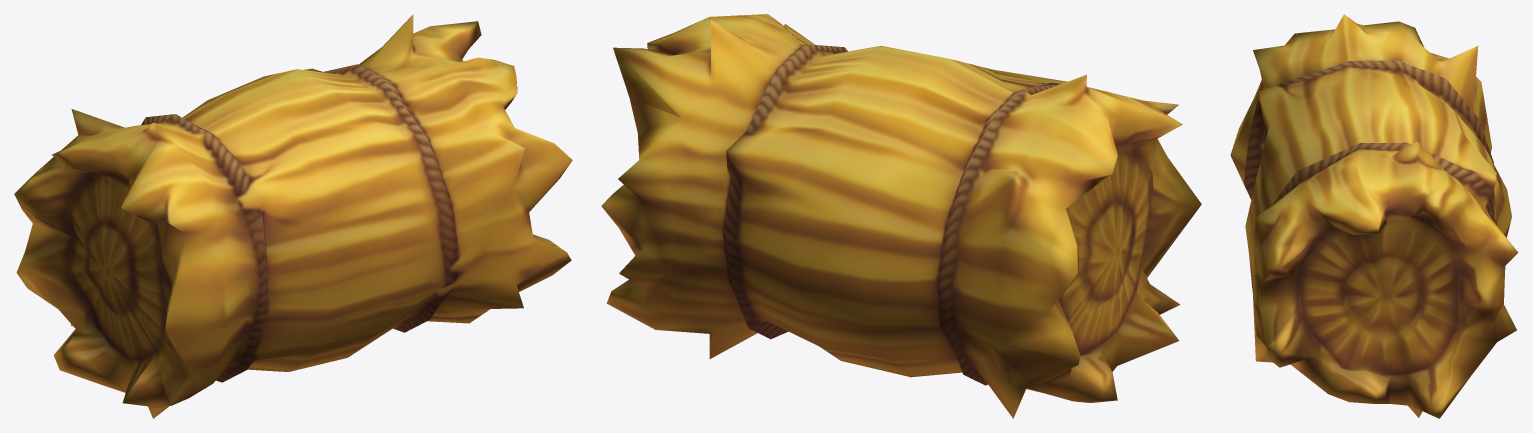
Rendered from tawara5.fbx.
3 renders of one model, left to right at view 1: azimuth 30°, elevation 25°; view 2: azimuth 150°, elevation 25°; view 3: azimuth 270°, elevation 25°, orthographic. The views are drawn at different scales.
Parts seen in each view (by area): view 1: HayRoll_Straw02; view 2: HayRoll_Straw02; view 3: HayRoll_Straw02.
Part boxes in pixels (x1,y1,x2,y2): HayRoll_Straw02: [14, 14, 572, 418]; HayRoll_Straw02: [601, 14, 1201, 418]; HayRoll_Straw02: [1230, 14, 1518, 418].
Size of the model in its own units: 51.6 by 33.76 by 31.83.
1 material, 1 textured.
